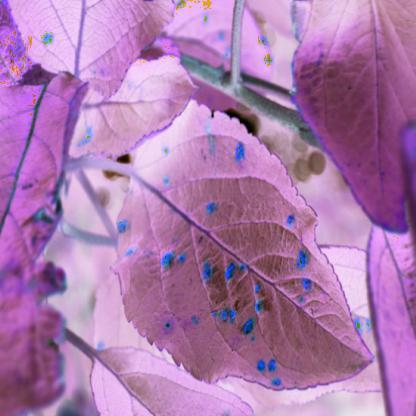Apple rust leaf: (106, 96, 380, 396)
